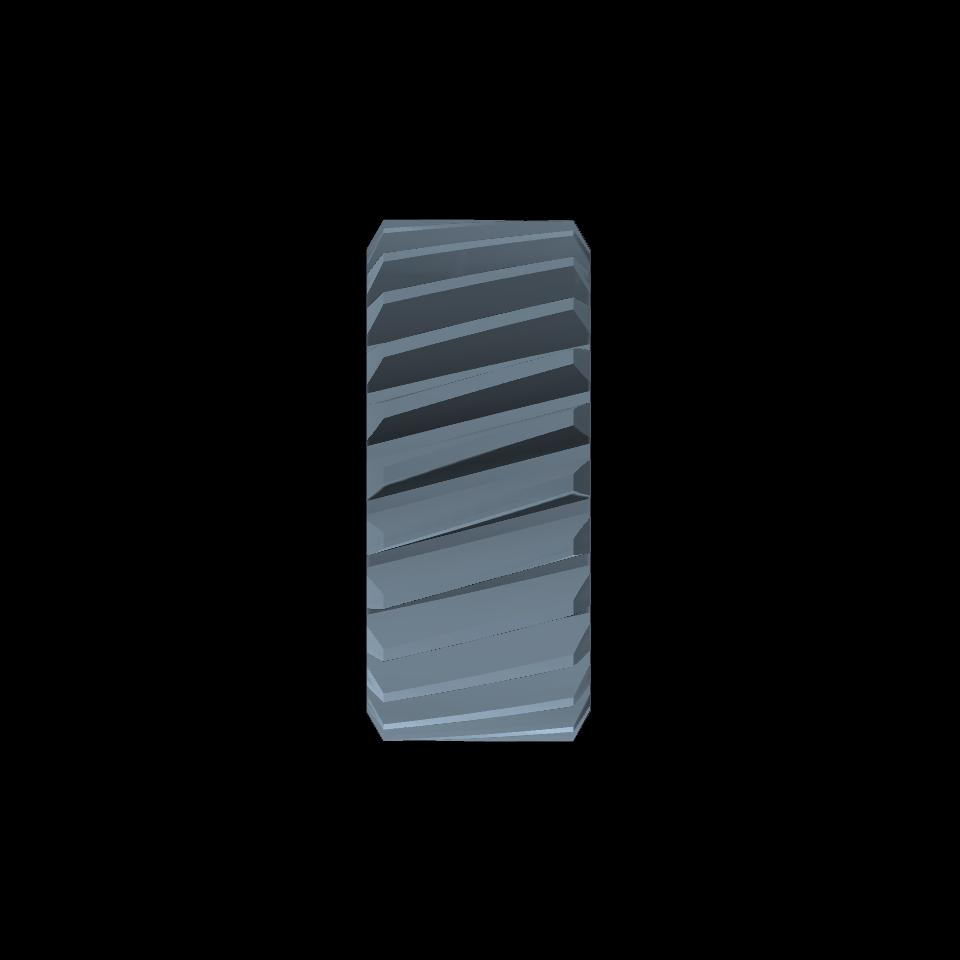Helical: (384, 220, 573, 739)
